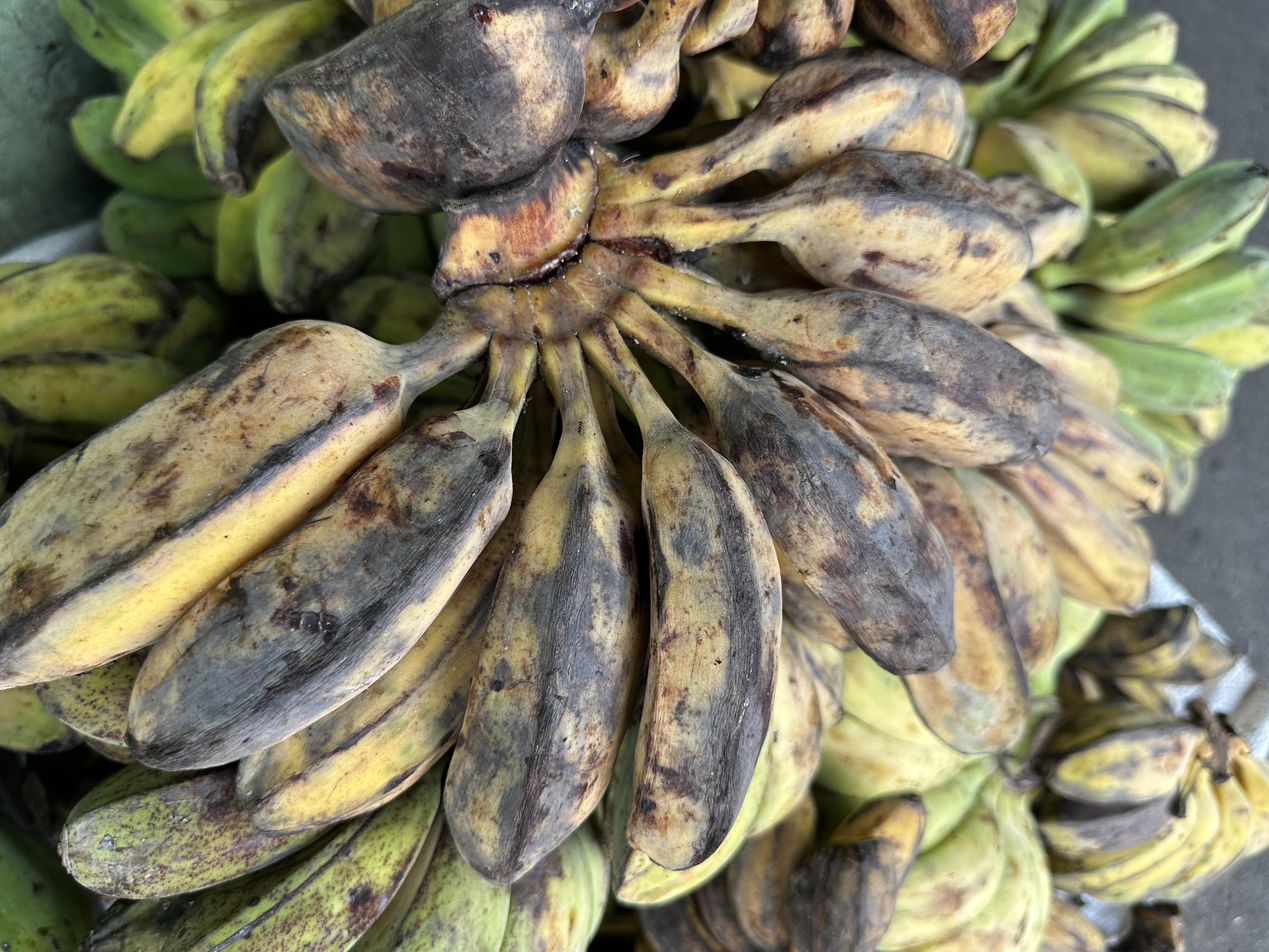overripe: (0, 44, 1065, 887)
ripe: (899, 318, 1164, 753), (602, 618, 843, 908), (1037, 701, 1269, 904)
underripe: (35, 646, 612, 952), (1070, 160, 1269, 513), (971, 0, 1217, 211), (0, 253, 191, 467)
